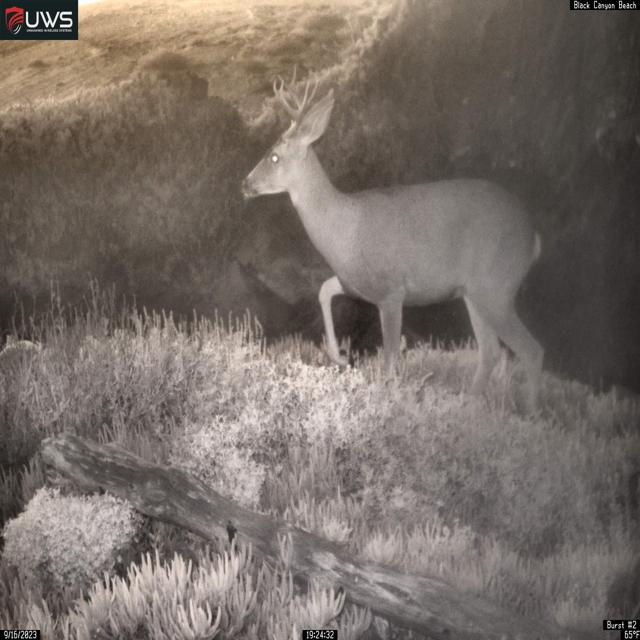deer: (240, 64, 546, 419)
